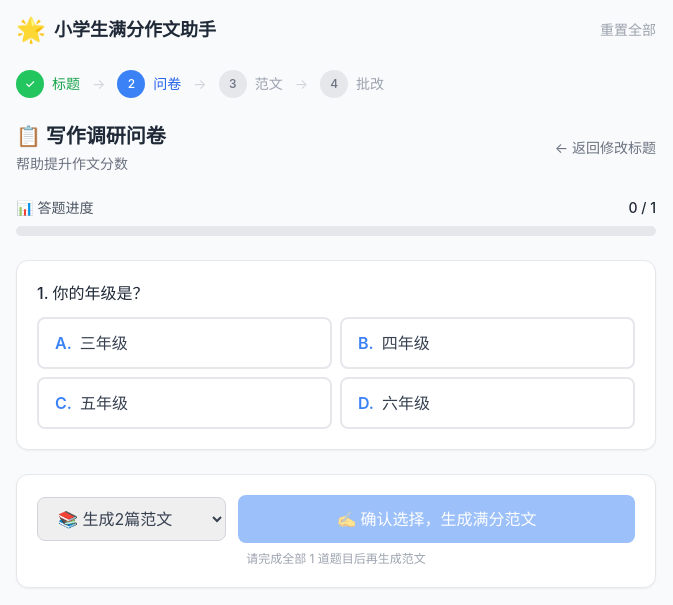
Scenario: Home 页面状态机 › 重置全部应清除状态回到 Step 1
Check: the heading "📋 写作调研问卷" is shown, box left=16, top=122, right=166, bottom=150
Click the button "重置全部" at {"x": 628, "y": 30}, box left=600, top=20, right=656, bottom=40
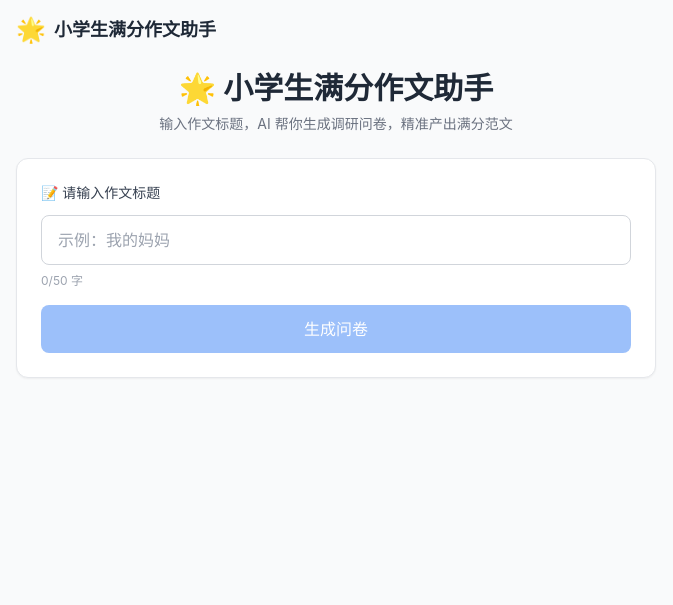
Check: the field with placeholder "示例：我的妈妈" is shown, box left=41, top=215, right=631, bottom=265
